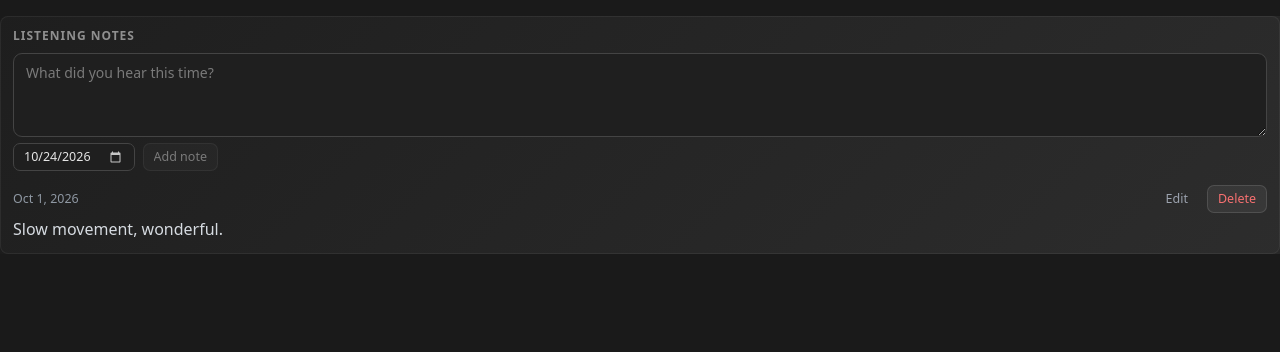
Test: AlbumNotes › adds a dated note above the earlier ones
Check: the text "Slow movement, wonderful." is shown, box [13, 218, 223, 240]
Type "Second listening, the finale." into the text box named "New listening note".
click(640, 95); type("Second listening, the finale.")  # box [13, 53, 1267, 137]
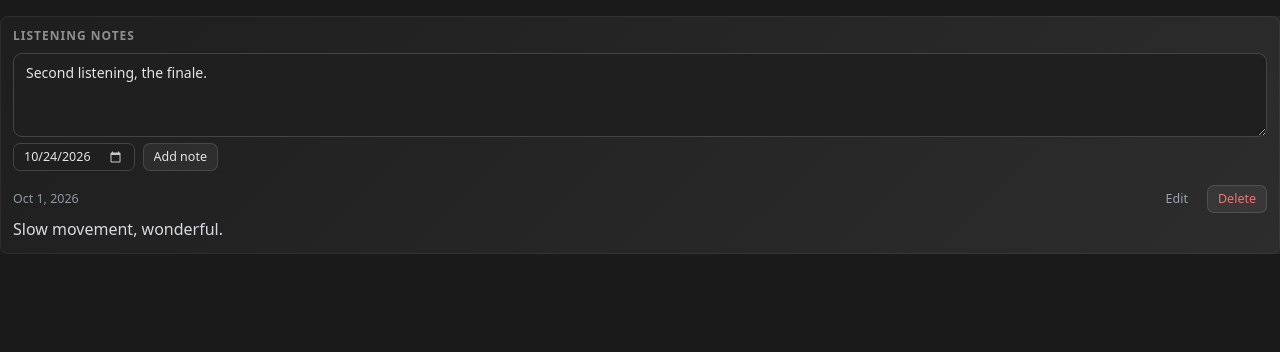
Type "2026-10-05" into the date field named "Day of the listening".
click(74, 157); type("2026-10-05")  # box [13, 143, 134, 171]
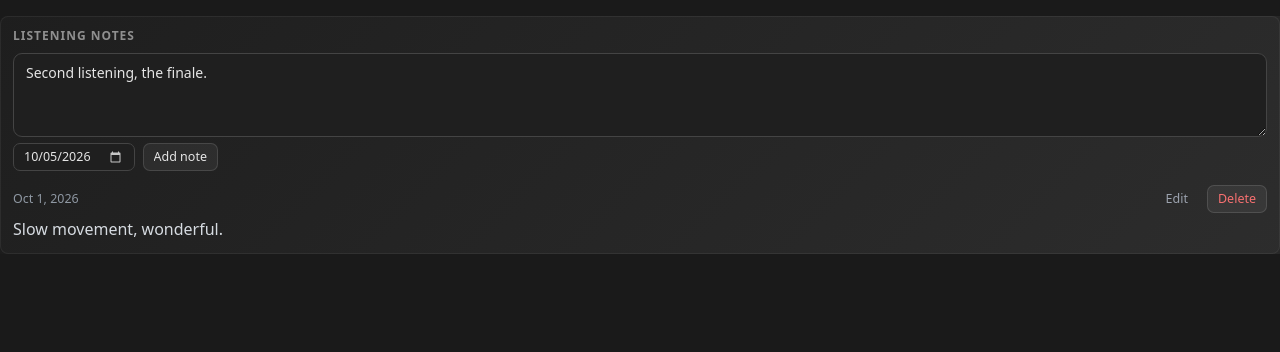
Click the button "Add note".
click(180, 157)  # box [142, 143, 218, 171]
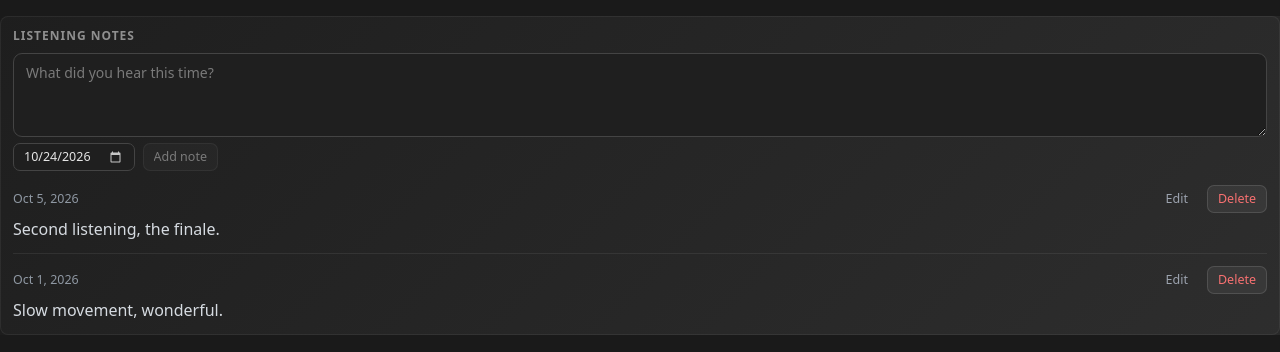
Check: the text "Second listening, the finale." is shown, box [13, 218, 220, 240]
